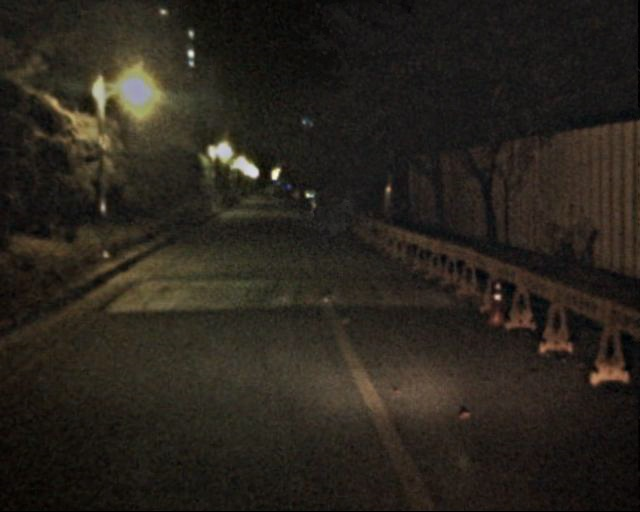person: (314, 196, 333, 243), (337, 196, 355, 241), (325, 199, 343, 244), (296, 197, 308, 226)
